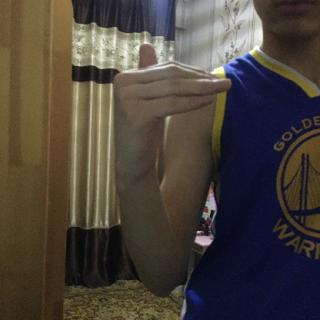KHAA: (108, 39, 241, 189)
